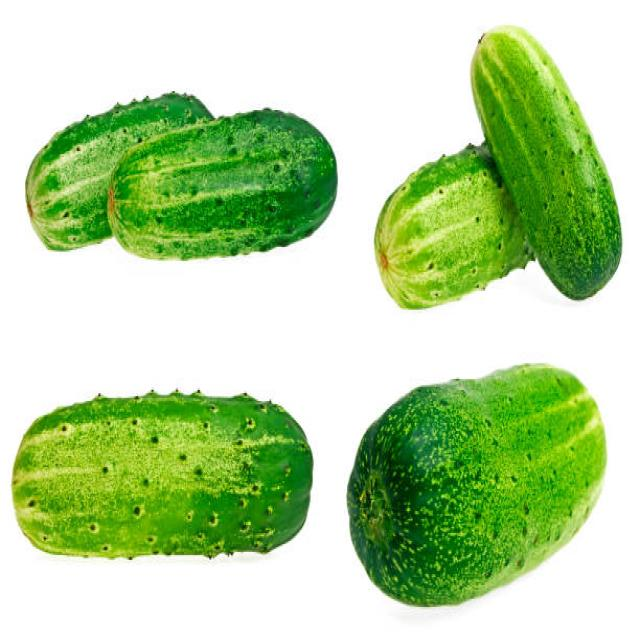cucumber: (347, 364, 606, 610), (23, 89, 336, 263), (12, 392, 314, 556), (472, 20, 623, 301), (375, 139, 536, 313)
